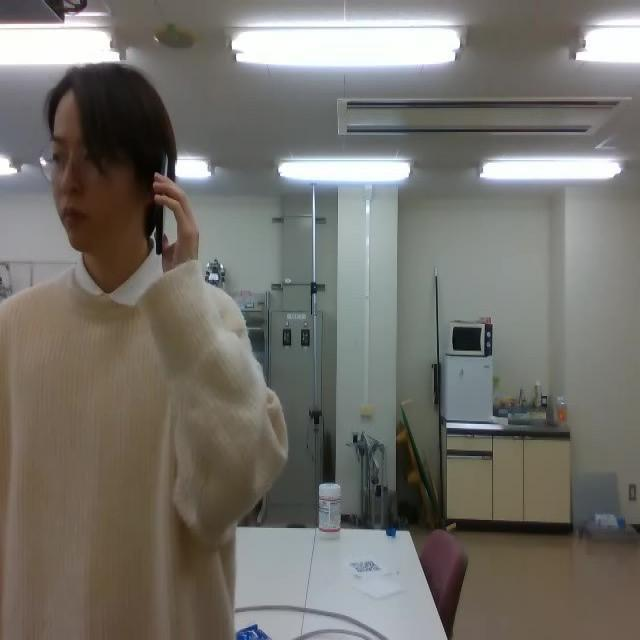Phone: (154, 148, 170, 256)
